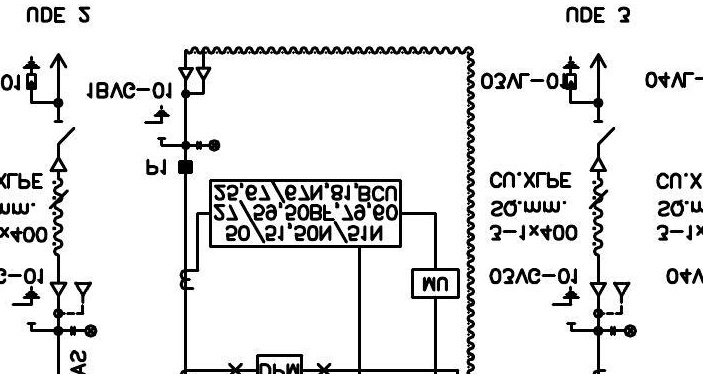22_ds_la_out: (22, 52, 76, 146), (562, 52, 616, 146)
22_gs: (550, 286, 581, 325), (11, 286, 41, 326), (144, 104, 170, 140)
22_ll: (70, 324, 98, 339), (609, 323, 637, 338), (195, 138, 222, 152)
MU: (410, 267, 461, 300)
terminator_double: (177, 66, 212, 96)
terminator_single: (588, 156, 608, 173), (49, 156, 68, 173)
terminator_w_future: (49, 281, 93, 316), (589, 281, 633, 316)
